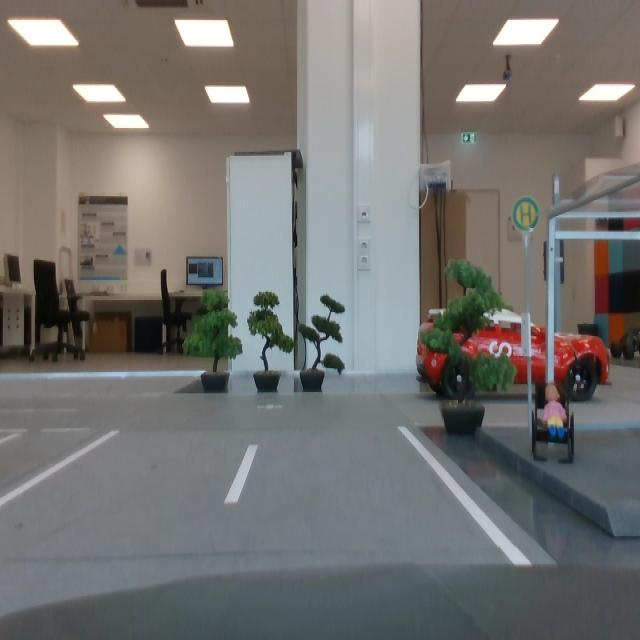car: (417, 307, 612, 397), (610, 320, 640, 361)
person: (541, 383, 568, 435)
potted plant: (418, 259, 519, 439), (182, 289, 243, 392), (247, 290, 295, 392), (297, 293, 346, 392)
traffic light: (544, 241, 566, 286)
